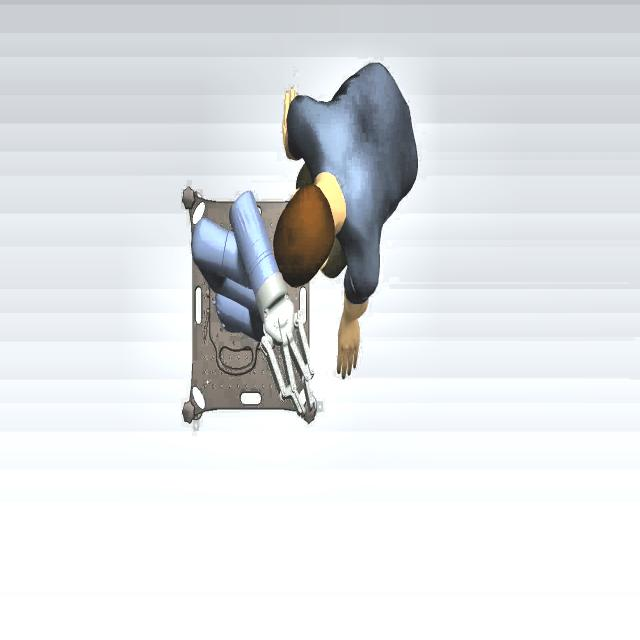human: (272, 52, 426, 384)
robot: (180, 182, 322, 428)
